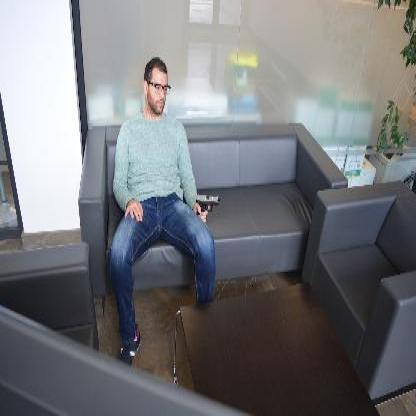pistol: (195, 193, 219, 214)
